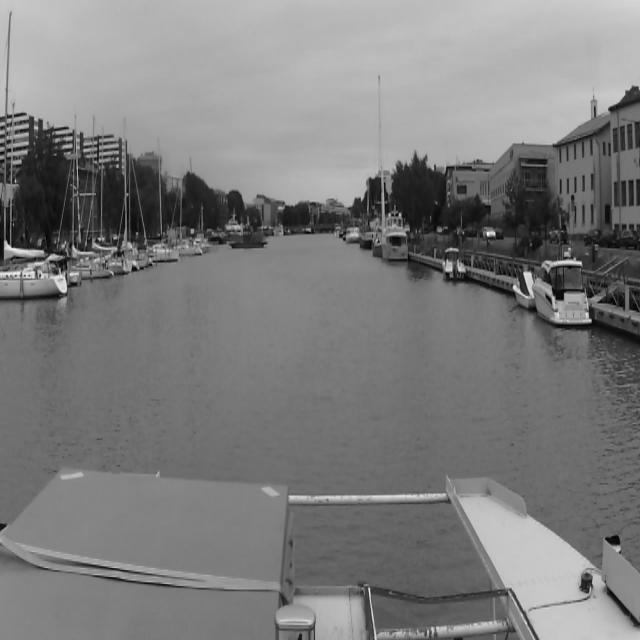ship: (4, 13, 66, 298), (67, 111, 111, 279), (112, 109, 146, 271), (534, 252, 592, 326), (149, 134, 179, 263), (372, 73, 388, 250), (222, 220, 276, 252), (383, 212, 409, 260), (514, 266, 532, 308), (443, 248, 465, 282), (360, 214, 372, 247), (346, 220, 360, 242)
